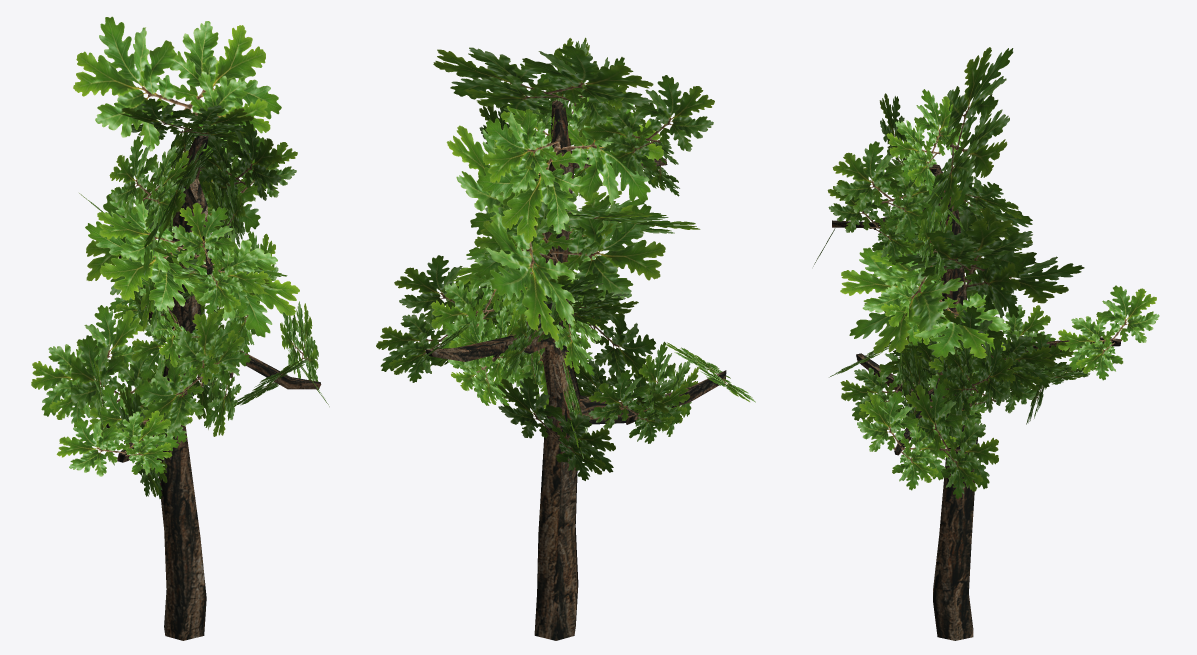
File: treeGodOne.fbx
3 renders of one model, left to right at view 1: azimuth 30°, elevation 25°; view 2: azimuth 150°, elevation 25°; view 3: azimuth 270°, elevation 25°, orthographic. The views are drawn at different scales.
Parts seen in each view (by area): view 1: Cube; view 2: Cube; view 3: Cube.
Part boxes in pixels (x1=…): Cube: x1=31, y1=16, x2=329, y2=640; Cube: x1=376, y1=37, x2=755, y2=640; Cube: x1=813, y1=47, x2=1159, y2=640.
Size of the model in its own units: 1737 by 3129 by 1844.
